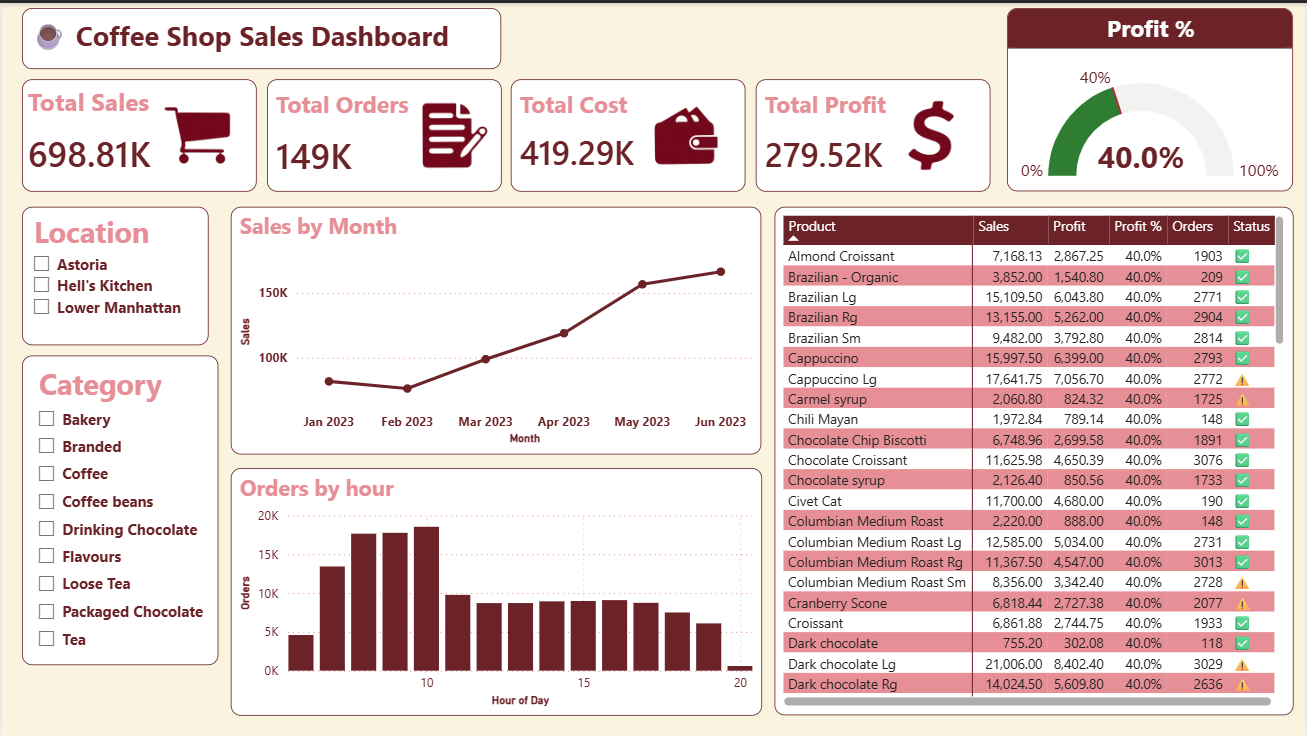

The page's visual inventory and layout, read from the dashboard file:
{"tool":"powerbi","page":{"name":"Page 1","canvas":[1280,720],"ordinal":0},"visuals":[{"type":"textbox","box":[20,5,470,60],"z":0},{"type":"cardVisual","fields":{"Data":["Transactions.Total Sales"]},"box":[20,75,230,110],"z":0,"group":"g1"},{"type":"cardVisual","fields":{"Data":["Transactions.Total Cost"]},"box":[500,75,230,110],"z":0,"group":"g3"},{"type":"gauge","title":"Profit %","fields":{"Y":["Transactions.Profit %"],"MinValue":["Date.min"],"MaxValue":["Date.max"],"TargetValue":["Date.target"]},"box":[986.5,4.9,281,180.4],"z":1000},{"type":"cardVisual","fields":{"Data":["Transactions.Total Profit"]},"box":[740,75,230,110],"z":1000,"group":"g4"},{"type":"group","id":"g1","title":"Group 1","box":[20,74.8,230,110.4],"z":2000},{"type":"cardVisual","fields":{"Data":["Transactions.Total Orders"]},"box":[260,75,230,110],"z":2000,"group":"g2"},{"type":"group","id":"g2","title":"Group 2","box":[260,74.8,241.7,110.4],"z":3000},{"type":"image","box":[135,74.8,114.1,110.4],"z":3003,"group":"g1"},{"type":"group","id":"g3","title":"Group 3","box":[500,74.8,230,110.4],"z":4000},{"type":"group","id":"g4","title":"Group 4","box":[740,74.8,230,110.4],"z":5000},{"type":"image","box":[387.7,74.8,114,110.4],"z":6000,"group":"g2"},{"type":"lineChart","title":"Sales by Month","fields":{"Category":["Date.Month Year"],"Y":["Transactions.Total Sales"]},"box":[225,200,521,242.9],"z":6000},{"type":"clusteredColumnChart","title":"Orders by hour","fields":{"Category":["Transactions.hour"],"Y":["Transactions.Total Orders"]},"box":[225,456.4,521.5,242.9],"z":6001},{"type":"image","box":[614.7,74.8,114.1,110.4],"z":6002,"group":"g3"},{"type":"pivotTable","fields":{"Rows":["Transactions.product_detail"],"Values":["Transactions.Total Sales","Transactions.Total Profit","Transactions.Profit %","Transactions.Total Orders","Transactions.Profit Icon"]},"box":[758.3,200,509.2,499.4],"z":6002},{"type":"slicer","title":"Location","fields":{"Values":["Transactions.store_location"]},"box":[19.6,200,182.8,136.2],"z":6003},{"type":"image","box":[855.2,74.8,114.1,110.4],"z":6004,"group":"g4"},{"type":"slicer","fields":{"Values":["Transactions.product_category"]},"box":[19.6,346,192.6,304.3],"z":6004}]}

Visuals, with their boxes in screenshot pixels (x1, y1, x2, y2), scaled from the page's 1280x720 canvas onto the 1307x736 screenshot:
textbox: BBox(20, 5, 500, 66)
cardVisual - Transactions.Total Sales: BBox(20, 77, 255, 189)
cardVisual - Transactions.Total Cost: BBox(511, 77, 745, 189)
"Profit %" gauge: BBox(1007, 5, 1294, 189)
cardVisual - Transactions.Total Profit: BBox(756, 77, 990, 189)
"Group 1" group: BBox(20, 76, 255, 189)
cardVisual - Transactions.Total Orders: BBox(265, 77, 500, 189)
"Group 2" group: BBox(265, 76, 512, 189)
image: BBox(138, 76, 254, 189)
"Group 3" group: BBox(511, 76, 745, 189)
"Group 4" group: BBox(756, 76, 990, 189)
image: BBox(396, 76, 512, 189)
"Sales by Month" lineChart: BBox(230, 204, 762, 453)
"Orders by hour" clusteredColumnChart: BBox(230, 467, 762, 715)
image: BBox(628, 76, 744, 189)
pivotTable - Transactions.product_detail x Transactions.Total Sales: BBox(774, 204, 1294, 715)
"Location" slicer: BBox(20, 204, 207, 344)
image: BBox(873, 76, 990, 189)
slicer - Transactions.product_category: BBox(20, 354, 217, 665)
